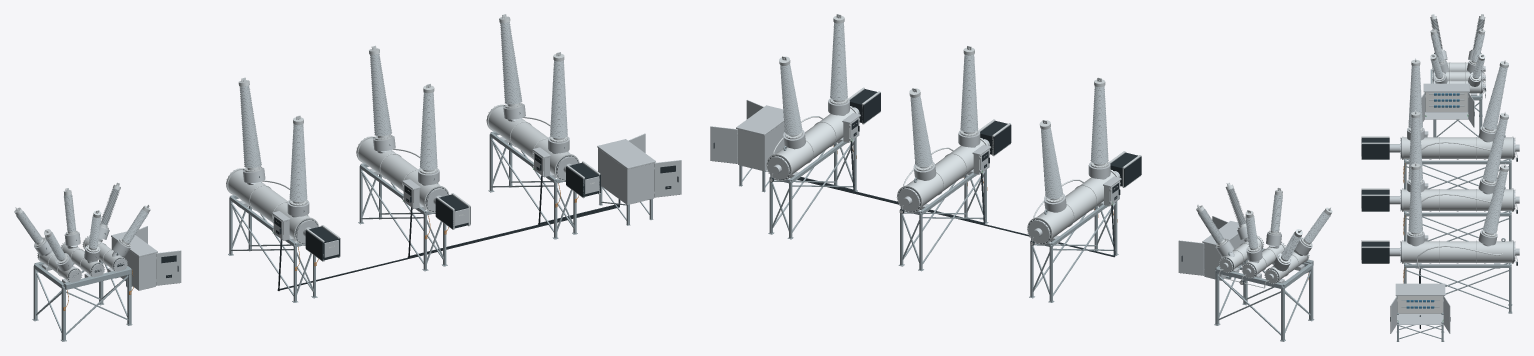
The model's file is breaker-comparison-service.glb.
The picture shows the model from 3 angles, left to right: view 1: azimuth 30°, elevation 25°; view 2: azimuth 150°, elevation 25°; view 3: azimuth 270°, elevation 25°; orthographic projection. The views are drawn at different scales.
Visible parts, largest first — view 1: Object100801, Object100887, Object100715, Object100071, Object100123, Object100019, Object100045, Object101015, Object100097, Object100592, Object100610, Object100611 (+9 smaller); view 2: Object100801, Object100715, Object100887, Object100045, Object100097, Object101015, Object100019, Object100071, Object100123, Object100598, Object100613, Object100185 (+7 smaller); view 3: Object100715, Object100801, Object100887, Object100196, Object100609, Object101015, Object100019, Object100071, Object100123, Object100611, Object100097, Object100045 (+27 smaller).
Boxes of the visible parts, x1,y1,x2,y2 form: Object100801: (358, 138, 439, 206); Object100887: (228, 170, 309, 238); Object100715: (488, 106, 570, 174); Object100071: (370, 54, 391, 136); Object100123: (239, 85, 261, 167); Object100019: (500, 22, 522, 104); Object100045: (420, 92, 437, 170); Object101015: (550, 60, 567, 138); Object100097: (289, 124, 307, 202); Object100592: (598, 148, 627, 204); Object100610: (627, 163, 654, 204); Object100611: (597, 139, 655, 169); Object100801: (906, 140, 985, 206); Object100715: (776, 108, 854, 174); Object100887: (1037, 172, 1115, 238); Object100045: (960, 54, 978, 132); Object100097: (1090, 86, 1108, 164); Object101015: (830, 22, 847, 100); Object100019: (780, 64, 802, 135); Object100071: (910, 96, 932, 167); Object100123: (1041, 127, 1062, 199); Object100598: (710, 126, 737, 163); Object100613: (738, 129, 764, 170); Object100185: (1178, 240, 1204, 275); Object100715: (1403, 241, 1511, 262); Object100801: (1403, 189, 1511, 210); Object100887: (1403, 137, 1511, 158); Object100196: (1425, 92, 1467, 111); Object100609: (1397, 296, 1442, 313); Object101015: (1408, 169, 1422, 233); Object100019: (1483, 170, 1507, 233); Object100071: (1483, 118, 1507, 181); Object100123: (1483, 66, 1507, 129); Object100611: (1395, 283, 1445, 295); Object100097: (1408, 65, 1422, 128); Object100045: (1408, 117, 1422, 180).
Size of the model in its own units: 22.88 by 6.4 by 6.3.
